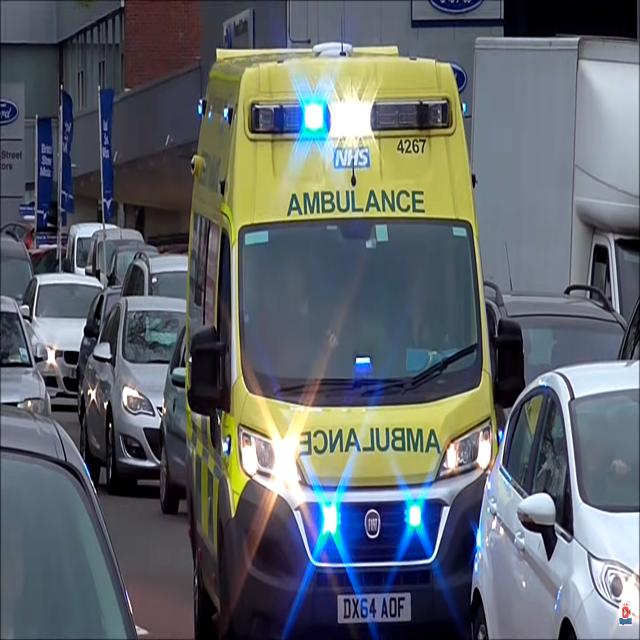emergency-vehicles: (180, 33, 512, 640)
